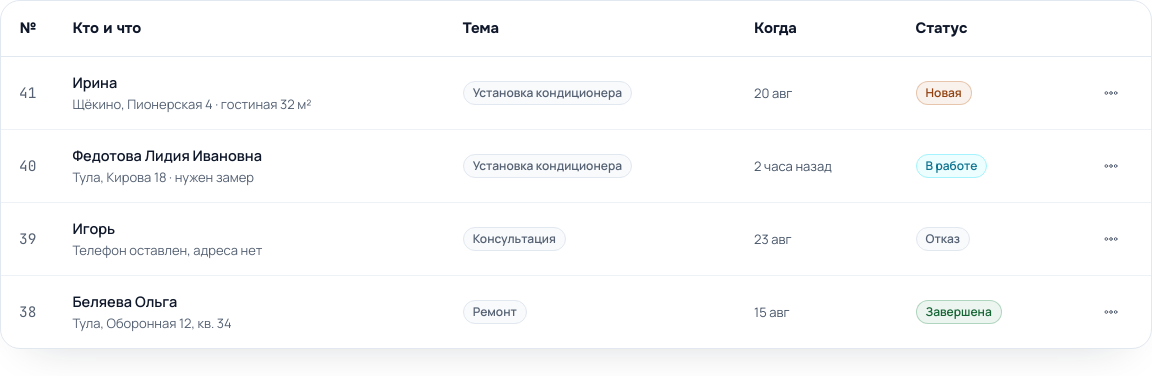
Test: Очередь обращений › у каждой строки есть меню действий со своим именем
Click the button named "Действия над обращением № 41". click: (1111, 93)
box: [1089,71,1133,115]
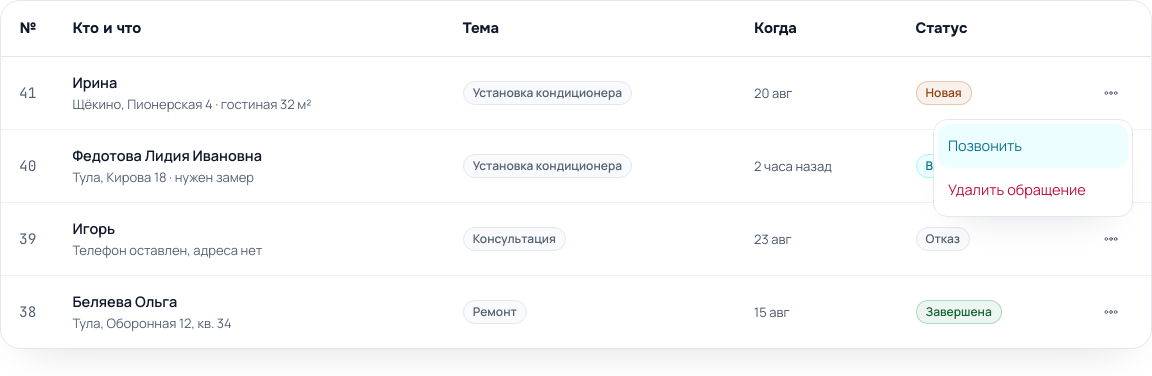
Expected: the menu item "Удалить обращение" is shown, [948,180,1086,199]
